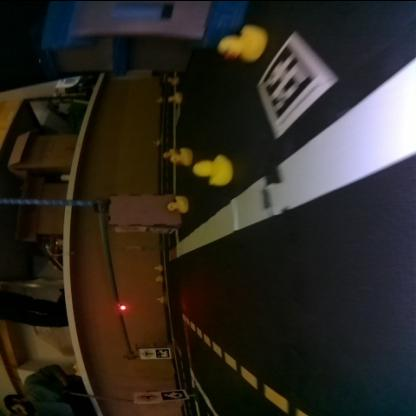Duckie: (219, 24, 264, 59), (192, 153, 232, 184), (168, 194, 186, 212), (172, 148, 190, 164), (167, 90, 181, 102), (162, 147, 174, 158), (155, 275, 163, 281), (154, 263, 162, 269), (157, 296, 165, 301)
Intersection sign: (136, 391, 156, 399), (140, 348, 150, 357)
QR code: (258, 29, 330, 133), (160, 388, 184, 398), (155, 348, 169, 356)
Traffic light: (114, 303, 126, 309)
